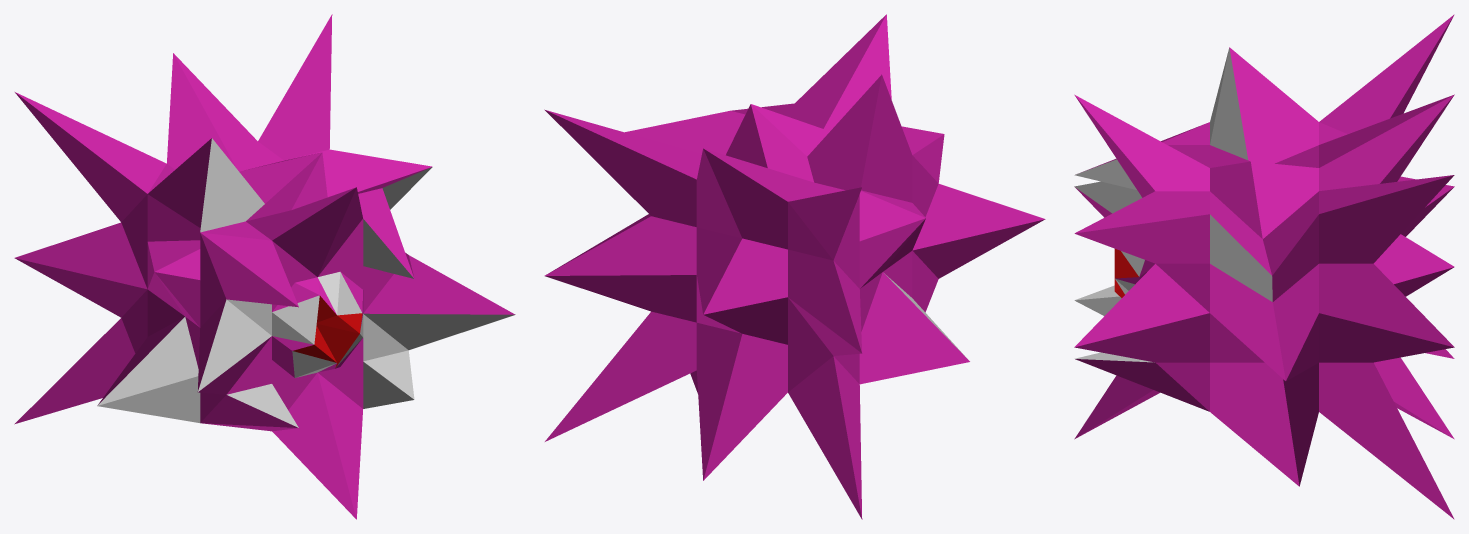
Rendered from enemy2.obj.
3 renders of one model, left to right at view 1: azimuth 30°, elevation 25°; view 2: azimuth 150°, elevation 25°; view 3: azimuth 270°, elevation 25°, orthographic. The views are drawn at different scales.
Parts seen in each view (by area): view 1: Cube_Cube.001; view 2: Cube_Cube.001; view 3: Cube_Cube.001.
Boxes of the visible parts, <box> form: Cube_Cube.001: <box>14,14,515,519</box>; Cube_Cube.001: <box>544,14,1045,519</box>; Cube_Cube.001: <box>1074,14,1454,519</box>.
Bounding box in the file's own units: 5.4 × 5.35 × 5.
